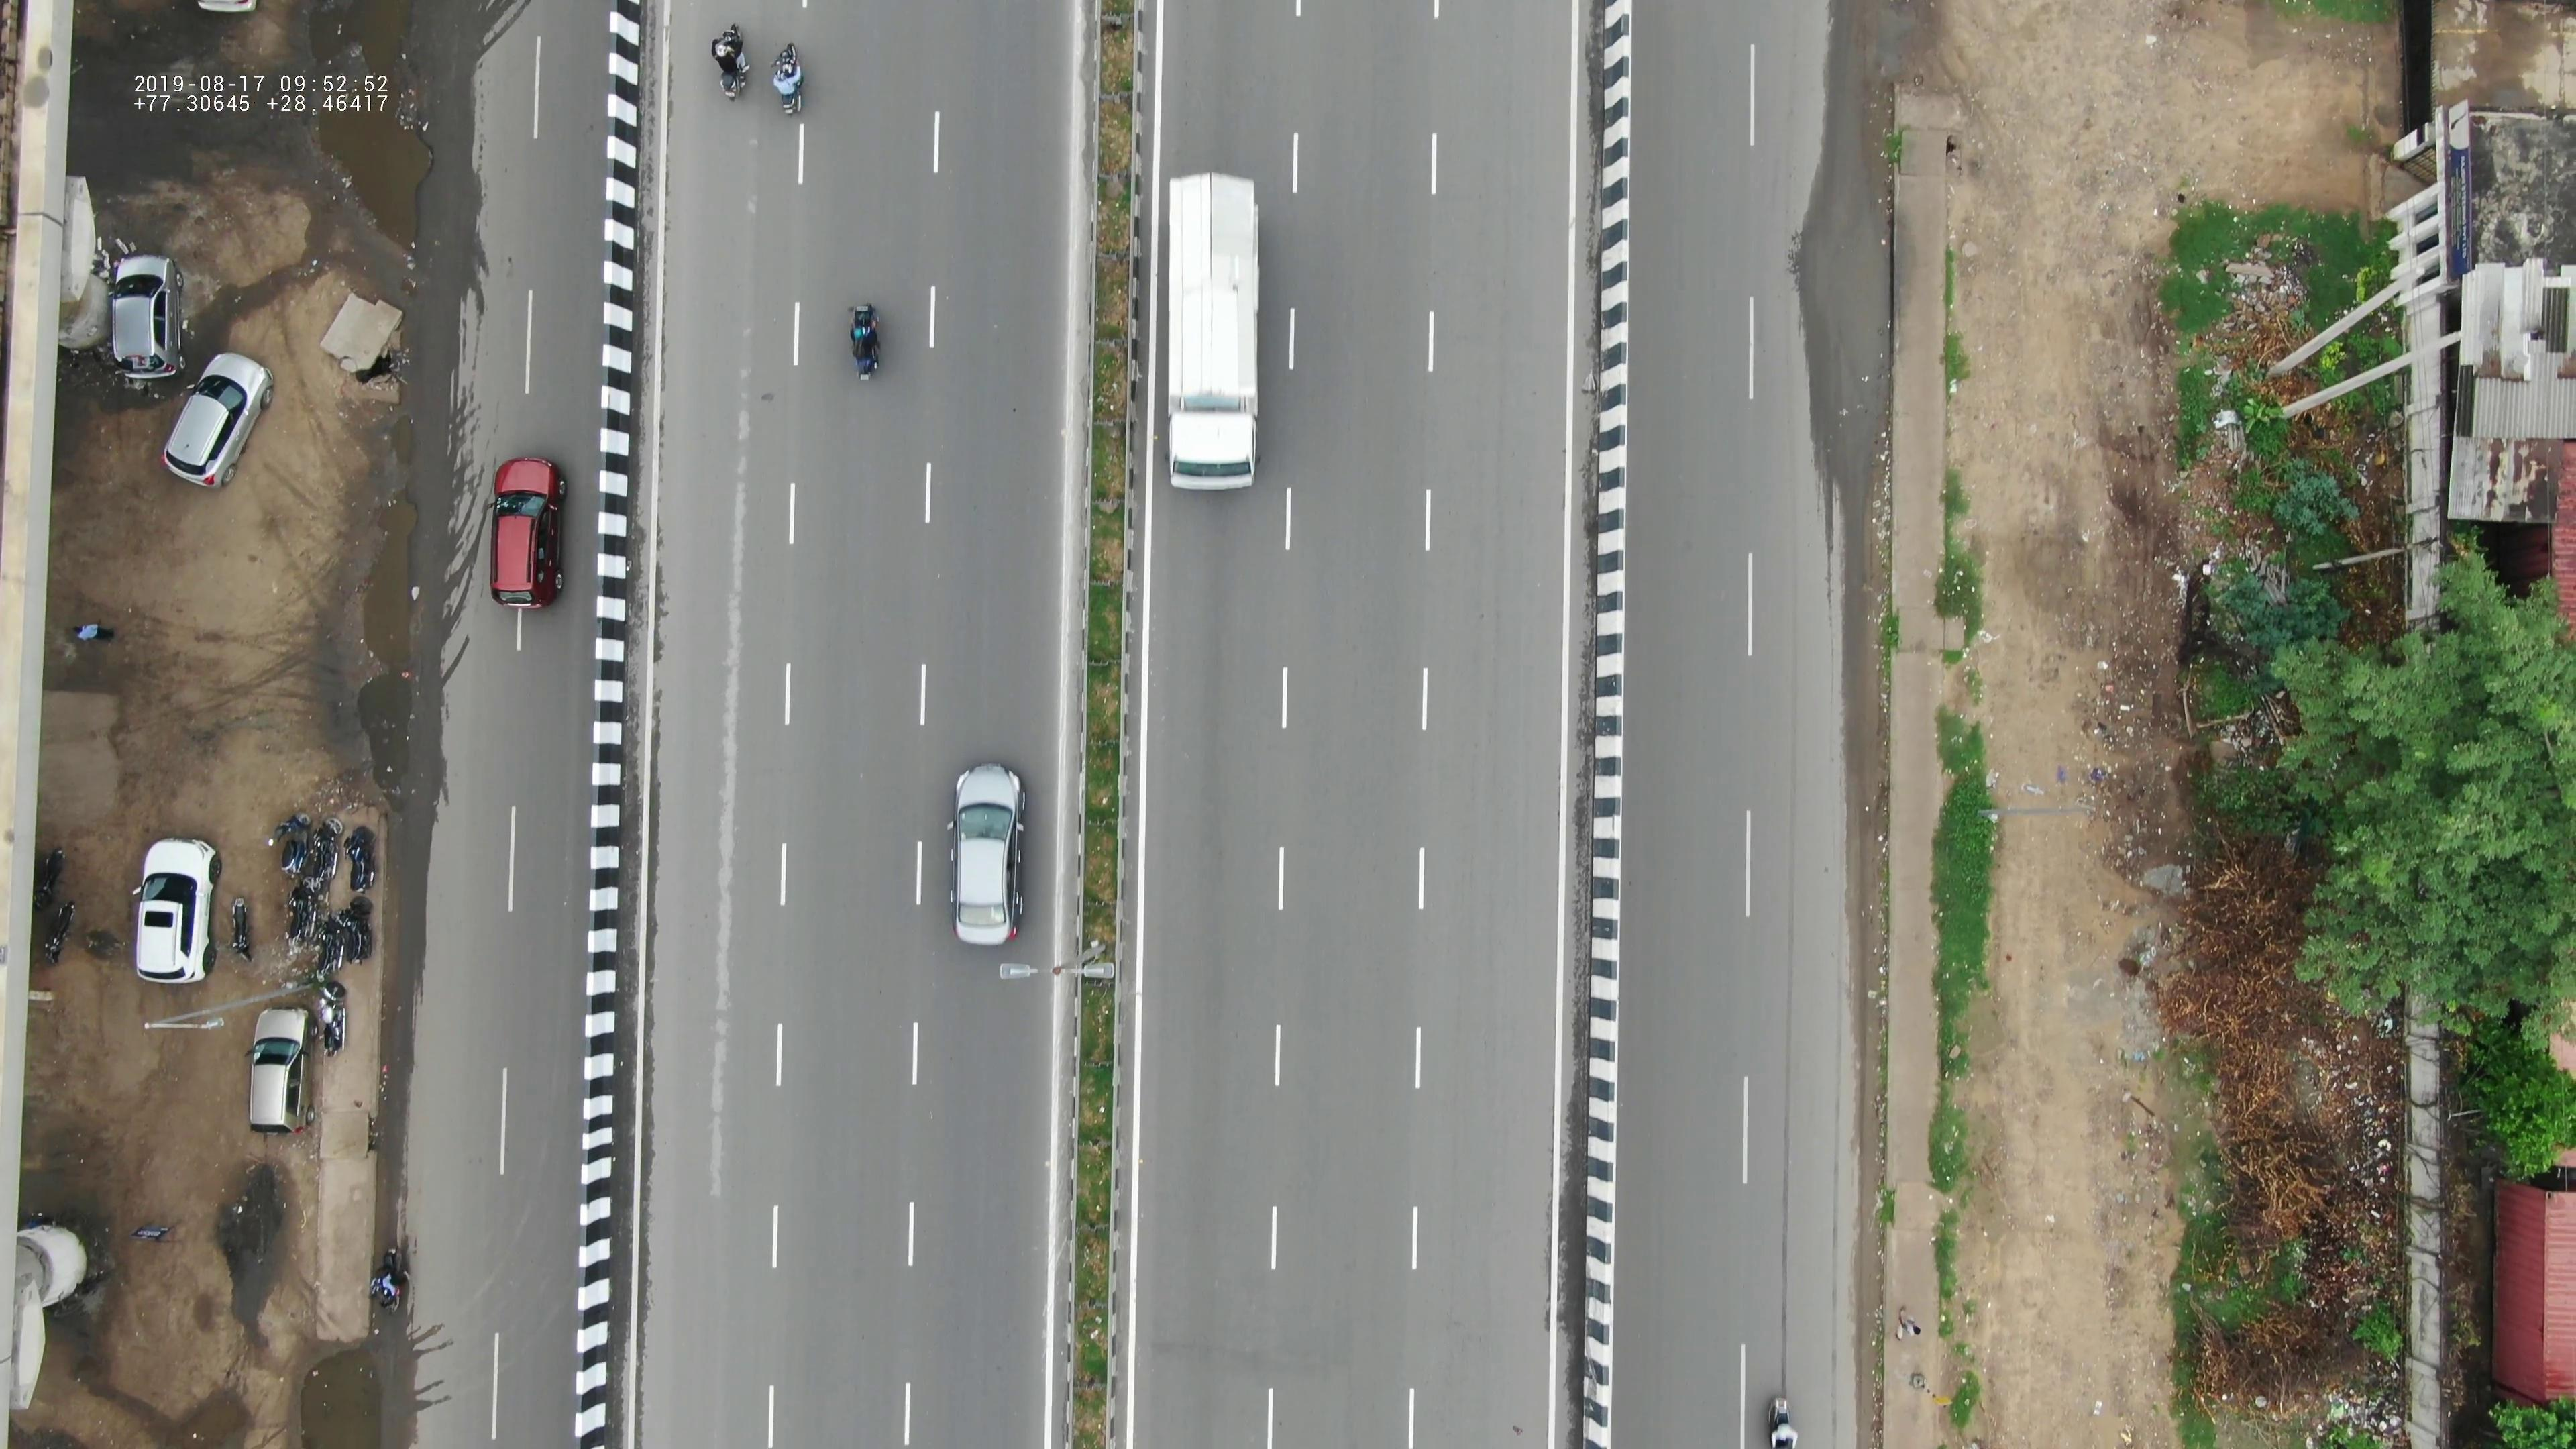Waterlogging: (292, 449, 449, 812), (285, 18, 451, 264), (287, 1350, 409, 1449)
